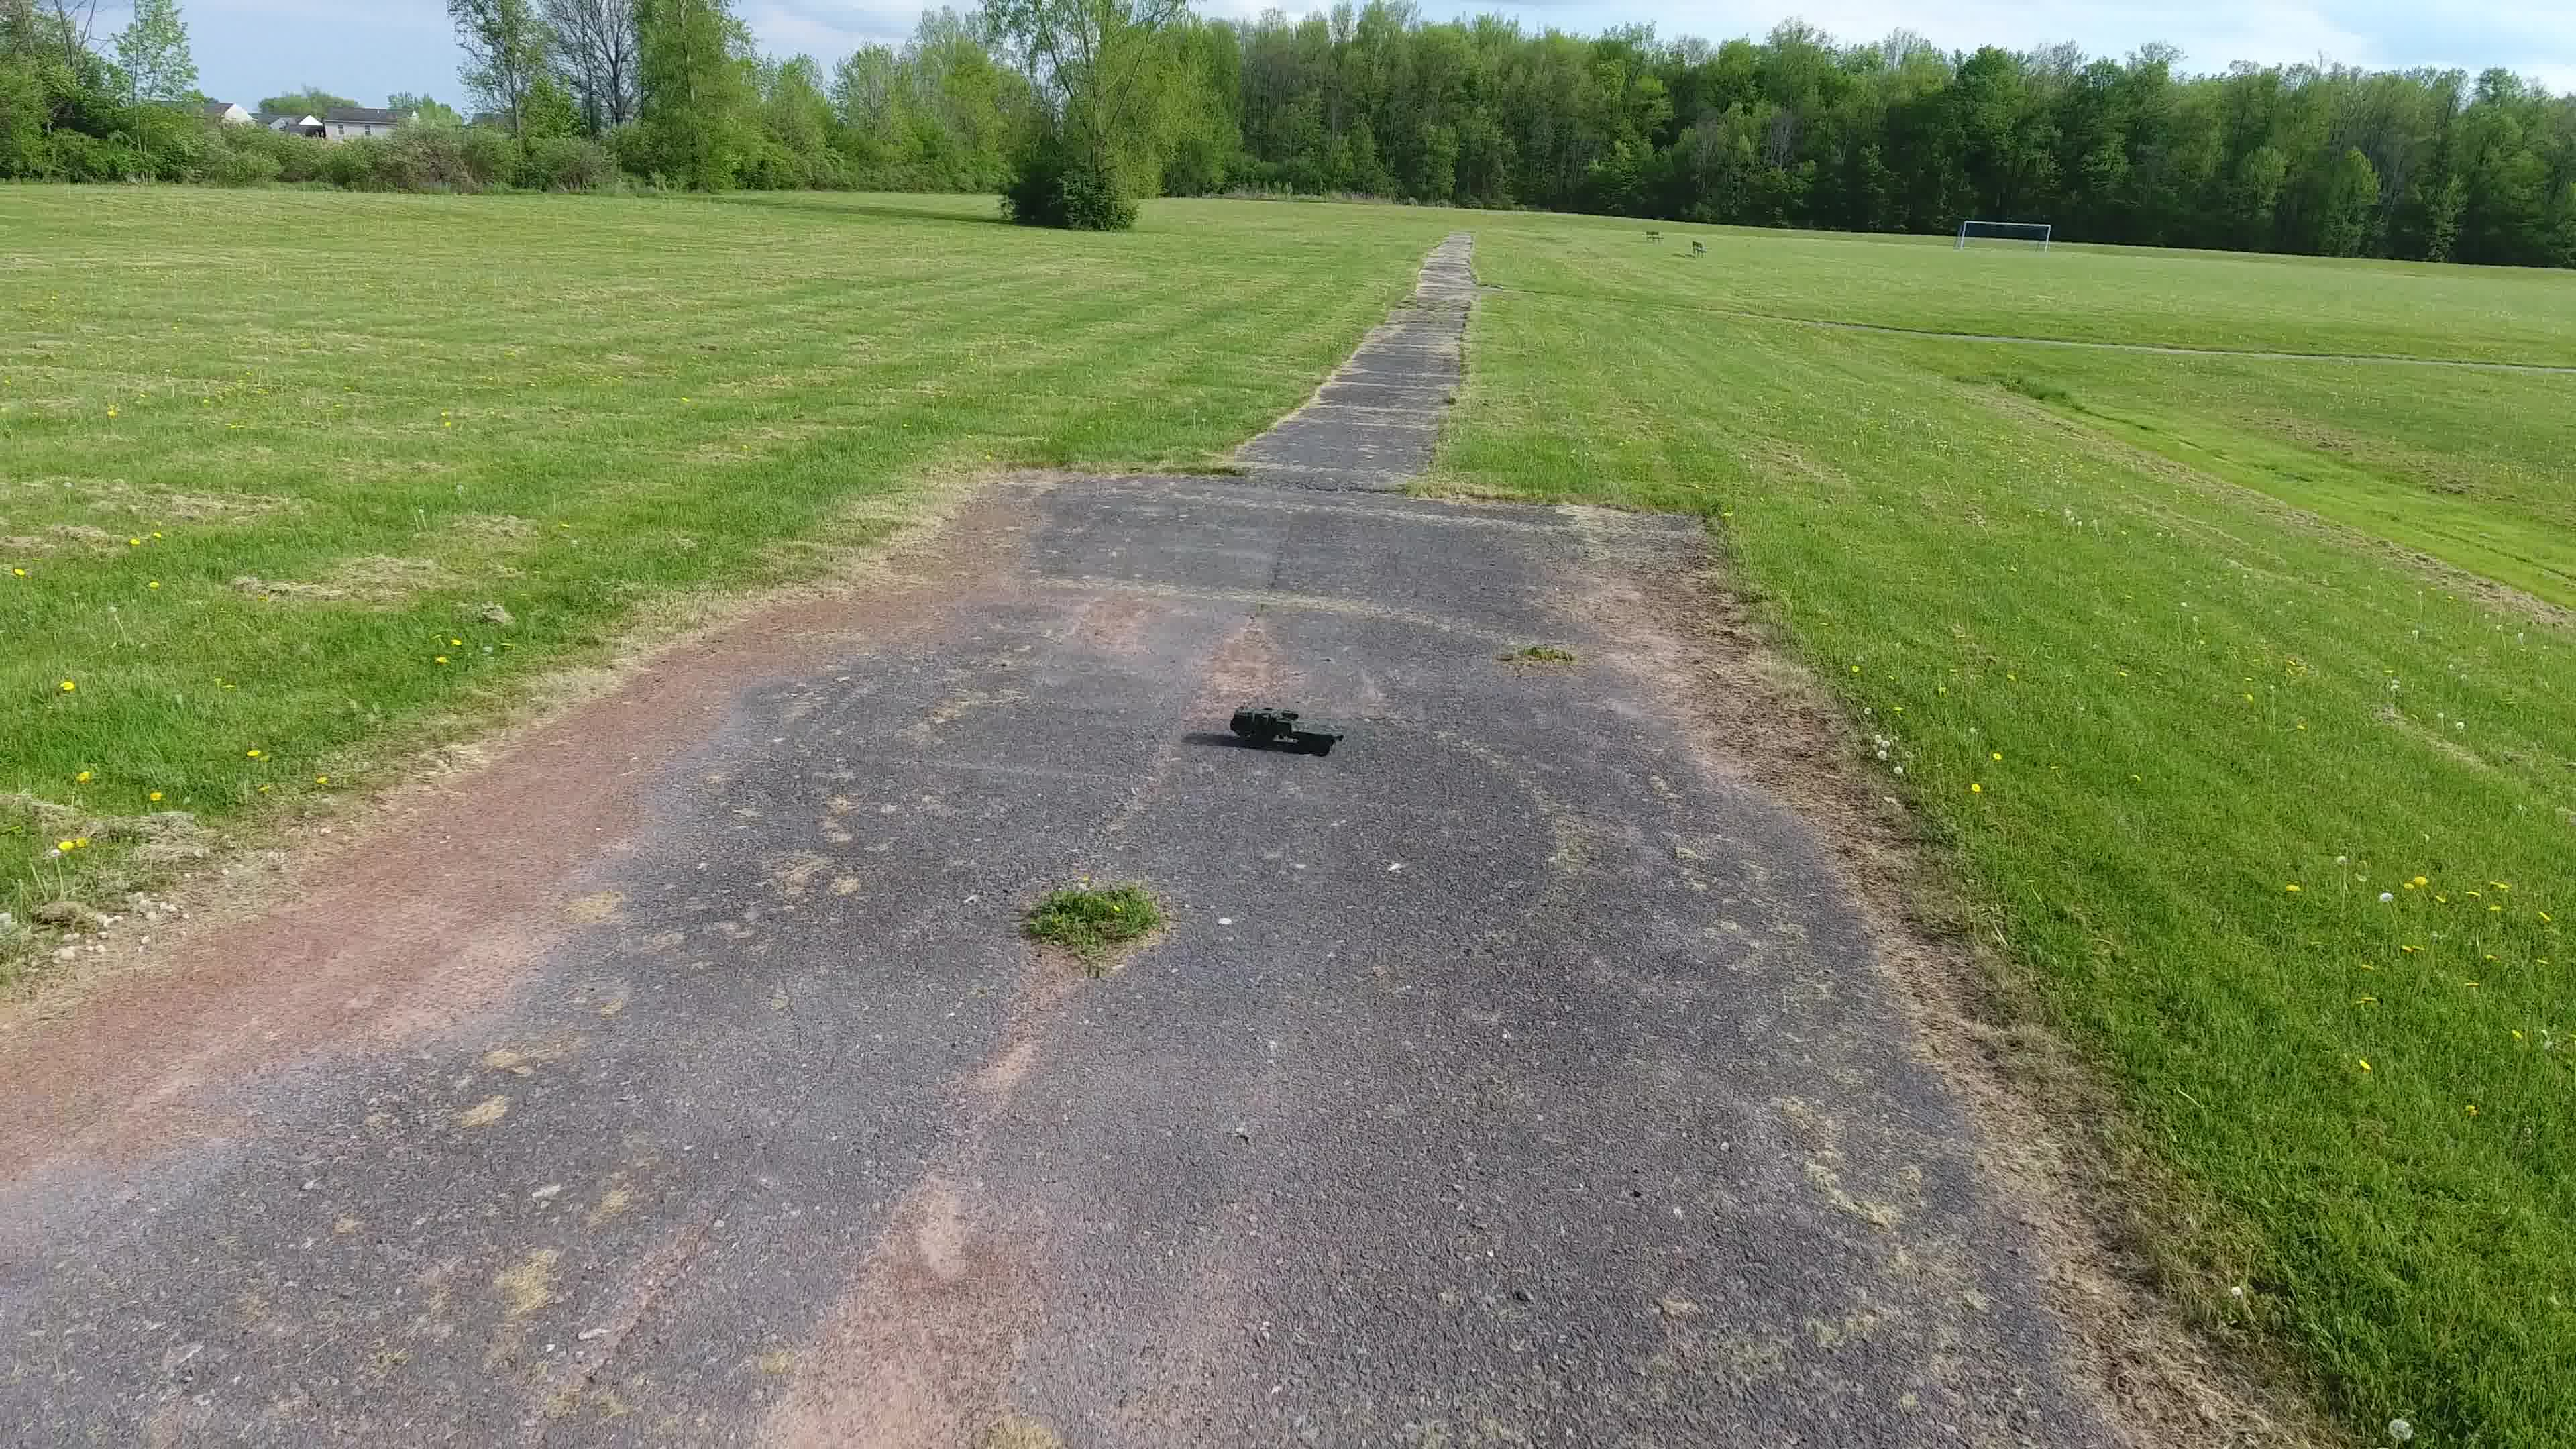transporter9: (1228, 702, 1346, 755)
